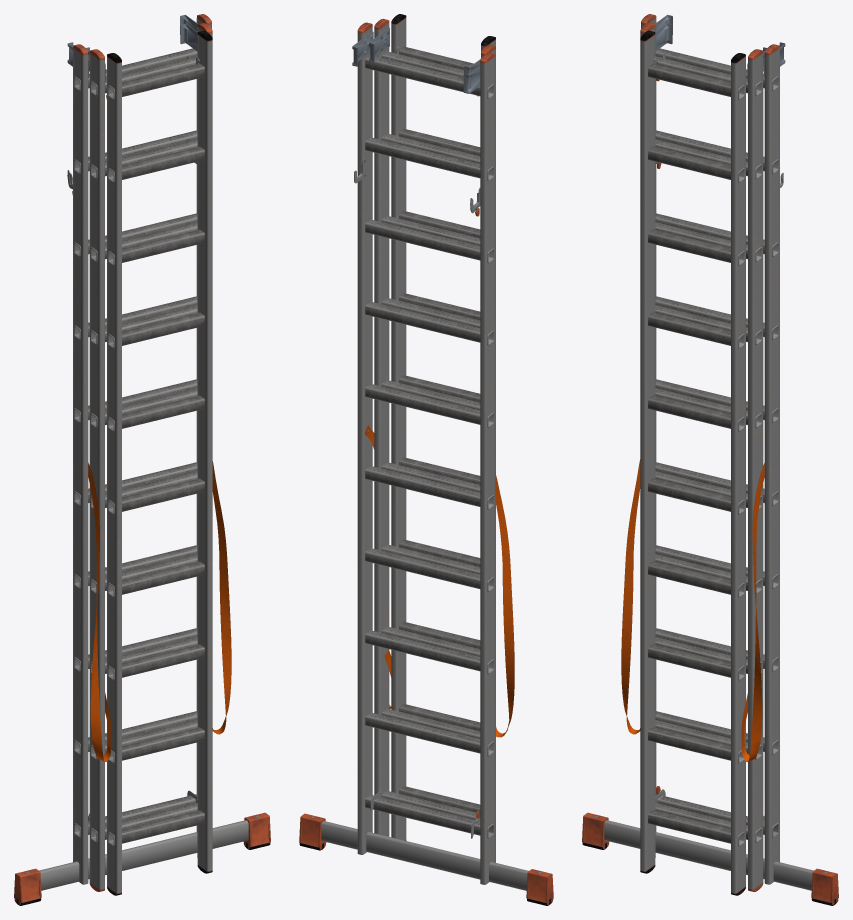
Rendered from ladder_sectioned_01.glb.
The picture shows the model from 3 angles, left to right: view 1: azimuth 30°, elevation 25°; view 2: azimuth 150°, elevation 25°; view 3: azimuth 330°, elevation 25°; orthographic projection.
Visible parts, largest first — view 1: ladder_section_03, ladder_section_01, ladder_section_02, ladder_ribbon; view 2: ladder_section_01, ladder_section_02, ladder_section_03, ladder_ribbon; view 3: ladder_section_03, ladder_section_01, ladder_section_02, ladder_ribbon.
Boxes of the visible parts, x1,y1,x2,y2 form: ladder_section_03: (106,30,212,895); ladder_section_01: (14,14,270,905); ladder_section_02: (86,23,212,891); ladder_ribbon: (88,461,231,761); ladder_section_01: (299,22,553,905); ladder_section_02: (369,18,495,862); ladder_section_03: (388,14,495,840); ladder_ribbon: (364,425,514,737); ladder_section_03: (640,30,745,895); ladder_section_01: (582,14,838,905); ladder_section_02: (640,23,766,891); ladder_ribbon: (621,459,764,761).
Size of the model in its own units: 0.6615 by 2.13 by 0.1776.
1 material, 1 textured.
